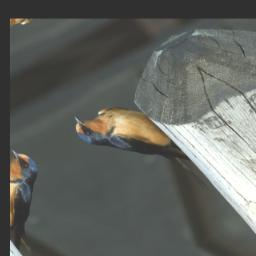Swallow: (66, 88, 214, 221)
